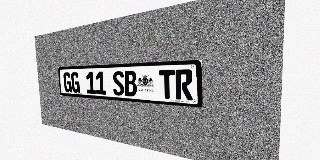1: (95, 71, 106, 95), (85, 72, 96, 94)
B: (124, 71, 137, 97)
G: (71, 72, 80, 93), (63, 72, 72, 92)
R: (175, 69, 193, 100)
S: (112, 71, 125, 96)
T: (159, 70, 175, 99)
